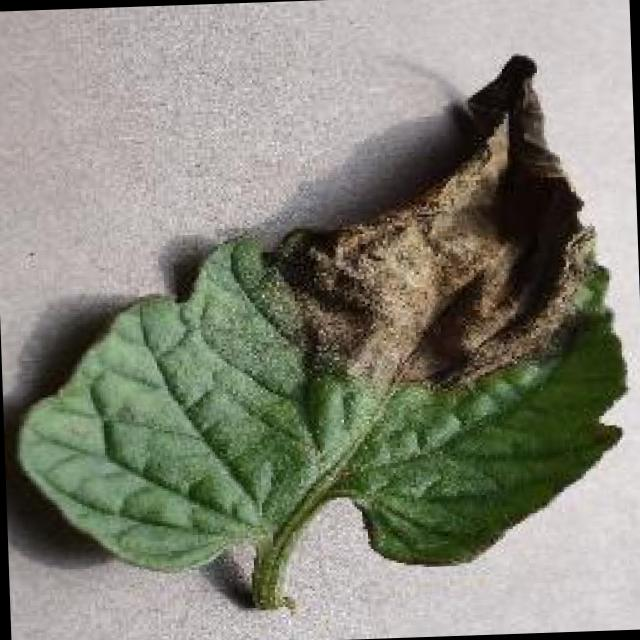Tomato_Late_Blight: (293, 58, 606, 390)
